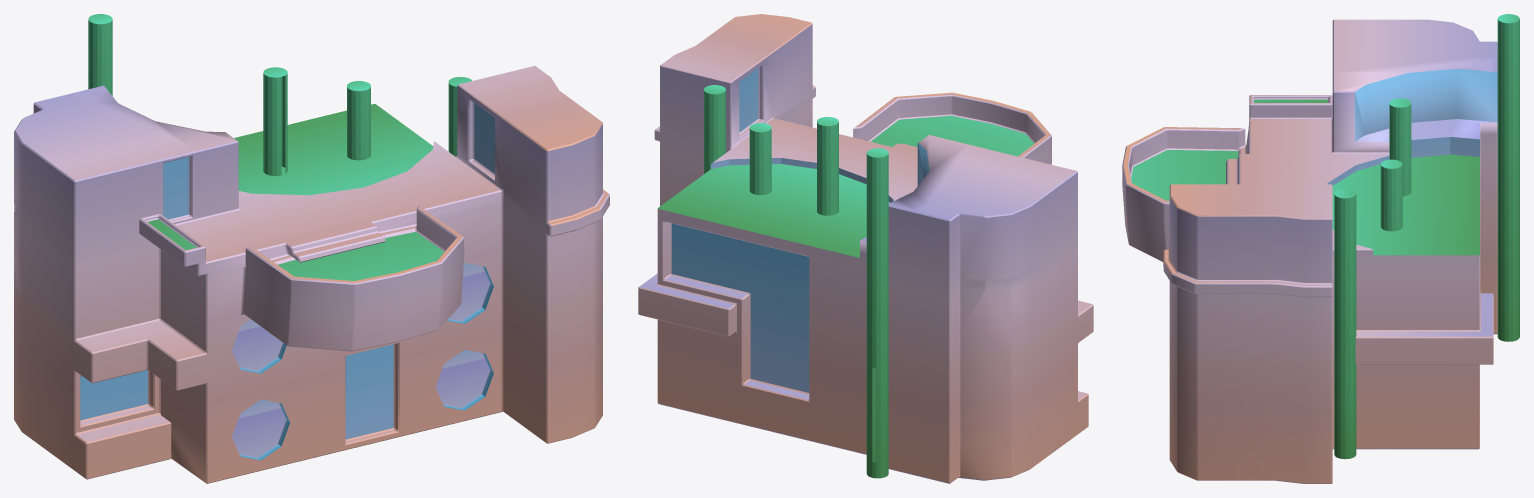
File: SM_PrototypeBuilding_01.glb
3 views of the same model, side by side, from view 1: azimuth 30°, elevation 25°; view 2: azimuth 150°, elevation 25°; view 3: azimuth 270°, elevation 25° (orthographic). The views are drawn at different scales.
Parts seen in each view (by area): view 1: Cube.001; view 2: Cube.001; view 3: Cube.001.
Part boxes in pixels (x1,y1,x2,y2): Cube.001: (14, 14, 609, 483); Cube.001: (638, 14, 1093, 483); Cube.001: (1122, 14, 1519, 483).
Size of the model in its own units: 26.27 by 18.96 by 21.46.
Materials: 1 (1 with a texture image).
